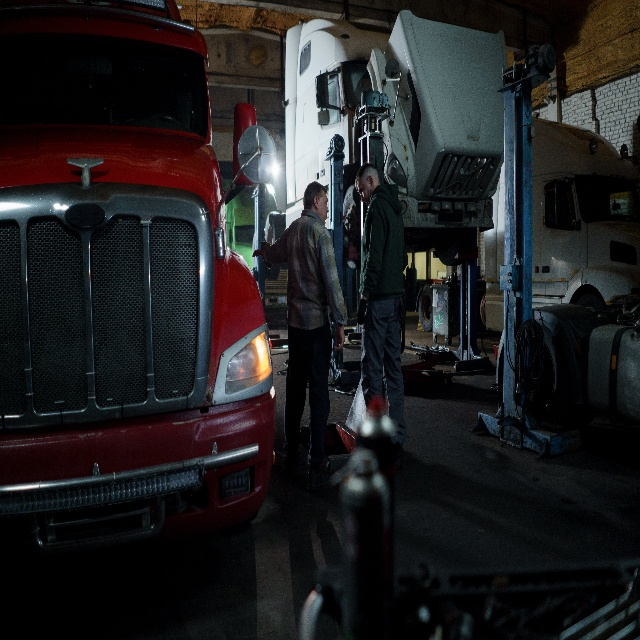Guantes: (355, 296, 369, 327)
Sin_guantes: (333, 323, 346, 353), (252, 246, 262, 259)
